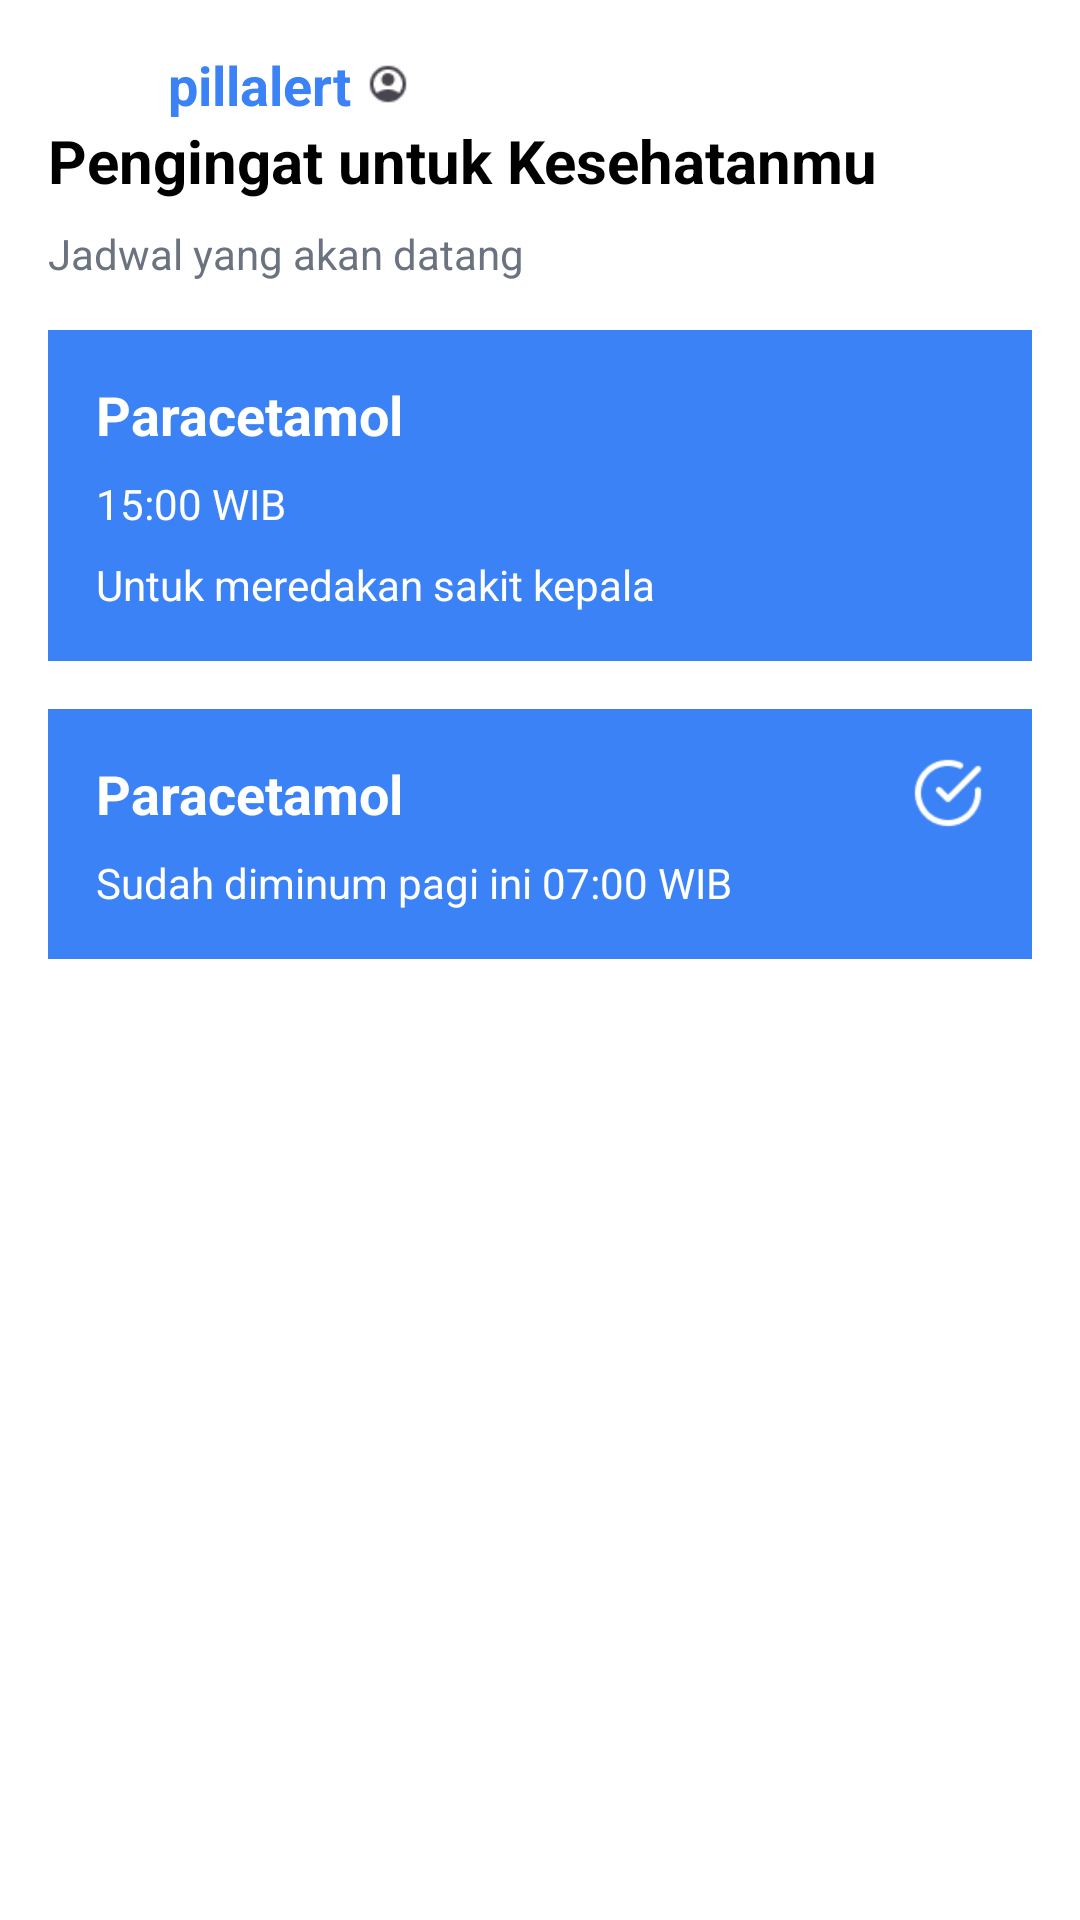

Point at icon controls on the screen. Image size 1080×1920, points as point (x, y).
Check: point (948, 793)
Profile: point (388, 84)
